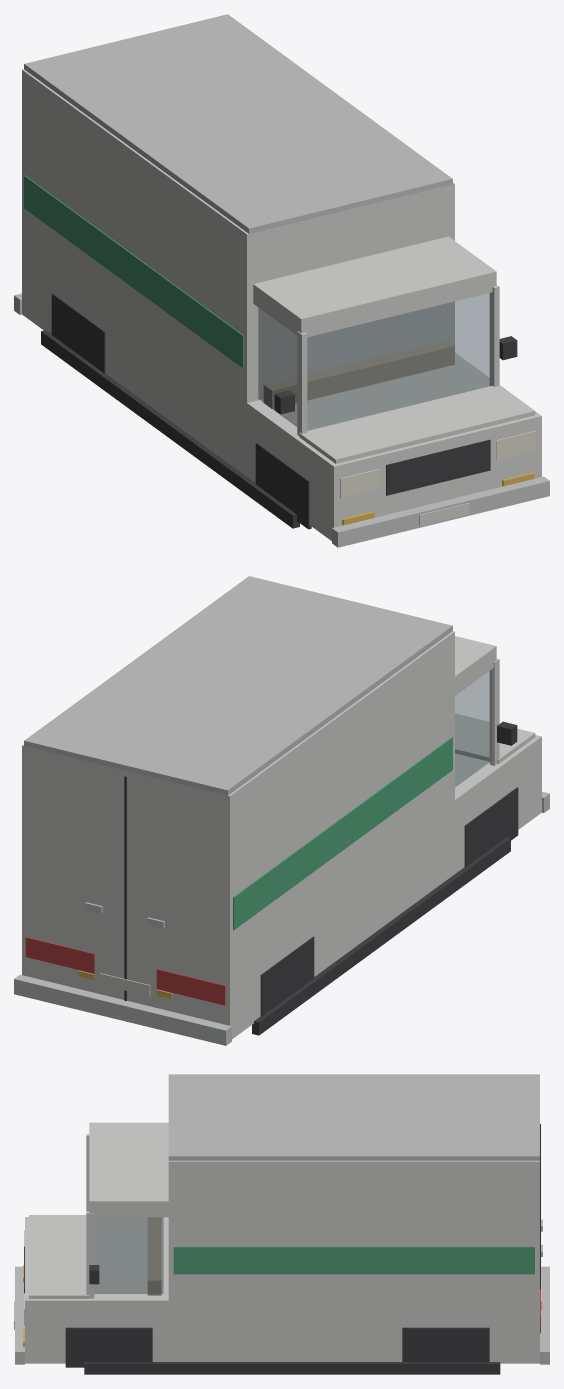
File: van_body.glb
3 views of the same model, one above another, from view 1: azimuth 30°, elevation 25°; view 2: azimuth 150°, elevation 25°; view 3: azimuth 270°, elevation 25° (orthographic). The views are drawn at different scales.
Visible parts, largest first — view 1: verda_furgono; view 2: verda_furgono; view 3: verda_furgono.
Boxes of the visible parts, x1,y1,x2,y2 form: verda_furgono: (14,14,549,547); verda_furgono: (14,576,549,1045); verda_furgono: (14,1074,549,1374).
Size of the model in its own units: 2.28 by 2.4 by 5.41.
